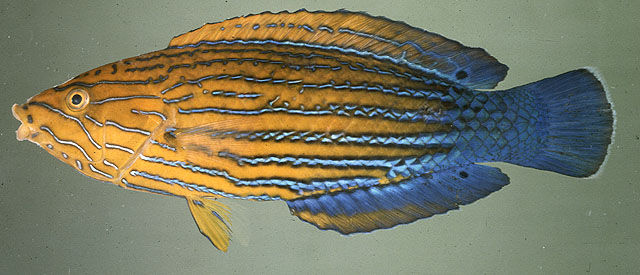fish: (14, 10, 616, 254)
